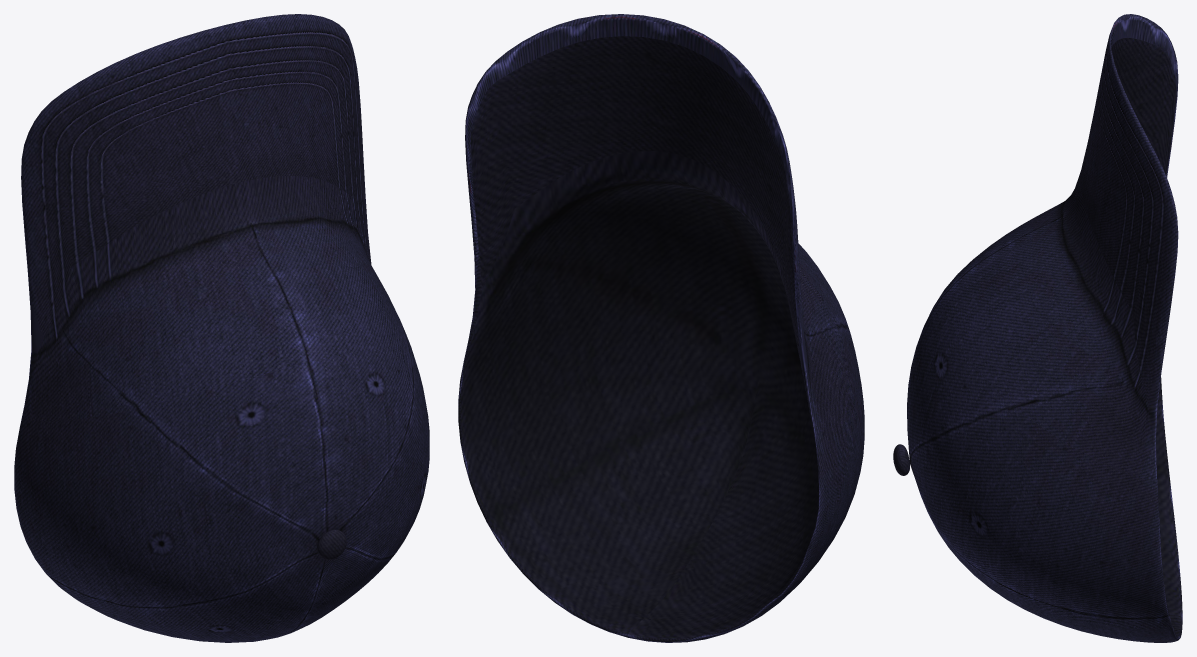
File: BaseballCap.glb
3 views of the same model, side by side, from view 1: azimuth 30°, elevation 25°; view 2: azimuth 150°, elevation 25°; view 3: azimuth 270°, elevation 25° (orthographic). The views are drawn at different scales.
Parts seen in each view (by area): view 1: 10131_BaseballCap_v2_L3; view 2: 10131_BaseballCap_v2_L3; view 3: 10131_BaseballCap_v2_L3.
Part boxes in pixels (left/top/right/bottom): 10131_BaseballCap_v2_L3: left=14, top=14, right=429, bottom=642; 10131_BaseballCap_v2_L3: left=458, top=14, right=864, bottom=642; 10131_BaseballCap_v2_L3: left=893, top=14, right=1182, bottom=642.
Size of the model in its own units: 18.91 by 29.47 by 13.23.
Materials: 1 (1 with a texture image).
